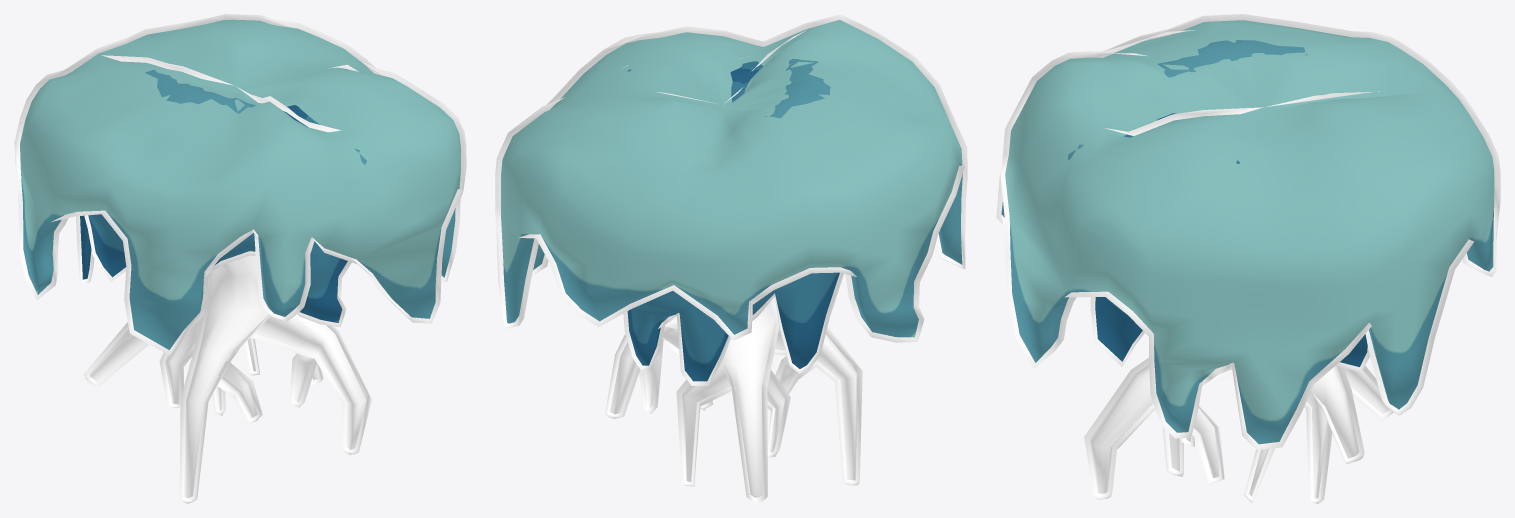
The model's file is Tree.glb.
3 renders of one model, left to right at view 1: azimuth 30°, elevation 25°; view 2: azimuth 150°, elevation 25°; view 3: azimuth 270°, elevation 25°, orthographic. The views are drawn at different scales.
Parts seen in each view (by area): view 1: Plane.001, Cube, Plane.002; view 2: Plane.001, Cube, Plane.002; view 3: Plane.001, Cube, Plane.002.
Part boxes in pixels (x1,y1,x2,y2): Plane.001: [14, 14, 466, 355]; Cube: [83, 255, 371, 503]; Plane.002: [76, 64, 358, 327]; Plane.001: [495, 14, 967, 342]; Cube: [605, 297, 862, 503]; Plane.002: [567, 58, 843, 385]; Plane.001: [996, 14, 1500, 450]; Cube: [1084, 357, 1393, 503]; Plane.002: [1090, 113, 1369, 371].
Size of the model in its own units: 12.09 by 11.91 by 12.12.
4 materials, 4 textured.
